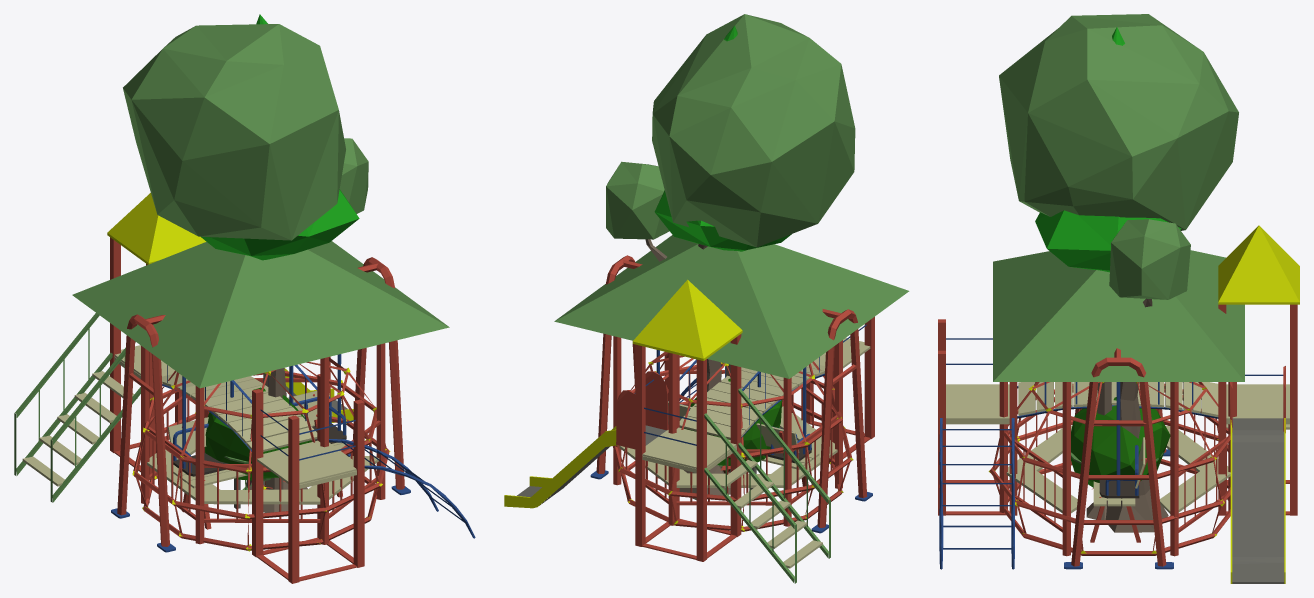
File: city-v1.glb
3 renders of one model, left to right at view 1: azimuth 30°, elevation 25°; view 2: azimuth 150°, elevation 25°; view 3: azimuth 270°, elevation 25°, orthographic. The views are drawn at different scales.
Visible parts, largest first — view 1: gazebo, tree, playset, swings, dome, tree2, bush, bench; view 2: tree, gazebo, playset, swings, dome, tree2, bush, bench; view 3: tree, gazebo, playset, dome, swings, tree2, bush, bench.
Part boxes in pixels (bbox=[...]): gazebo: bbox=[72, 241, 449, 544]; tree: bbox=[123, 24, 368, 489]; playset: bbox=[14, 193, 475, 583]; swings: bbox=[111, 257, 410, 552]; dome: bbox=[132, 357, 390, 551]; tree2: bbox=[201, 14, 359, 512]; bush: bbox=[205, 387, 311, 486]; bench: bbox=[167, 390, 346, 529]; tree: bbox=[606, 14, 855, 500]; gazebo: bbox=[554, 235, 909, 526]; playset: bbox=[504, 279, 874, 583]; swings: bbox=[590, 255, 872, 533]; dome: bbox=[612, 352, 853, 531]; tree2: bbox=[654, 25, 791, 473]; bush: bbox=[681, 378, 782, 473]; bench: bbox=[657, 401, 819, 495]; tree: bbox=[999, 14, 1238, 532]; gazebo: bbox=[993, 250, 1244, 556]; playset: bbox=[938, 225, 1299, 583]; dome: bbox=[988, 382, 1230, 555]; swings: bbox=[1064, 348, 1173, 569]; tree2: bbox=[1035, 27, 1181, 519]; bush: bbox=[1071, 397, 1170, 487]; bench: bbox=[1090, 437, 1147, 542].
Bounding box in the file's own units: 4.03 × 6 × 4.08.
